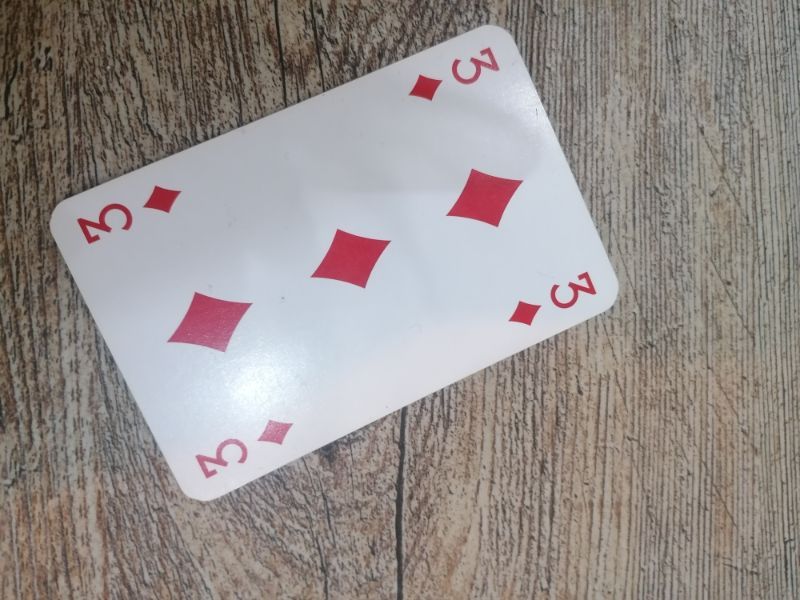3d: (74, 178, 184, 248), (192, 414, 297, 484), (407, 41, 504, 109), (506, 264, 600, 329)
